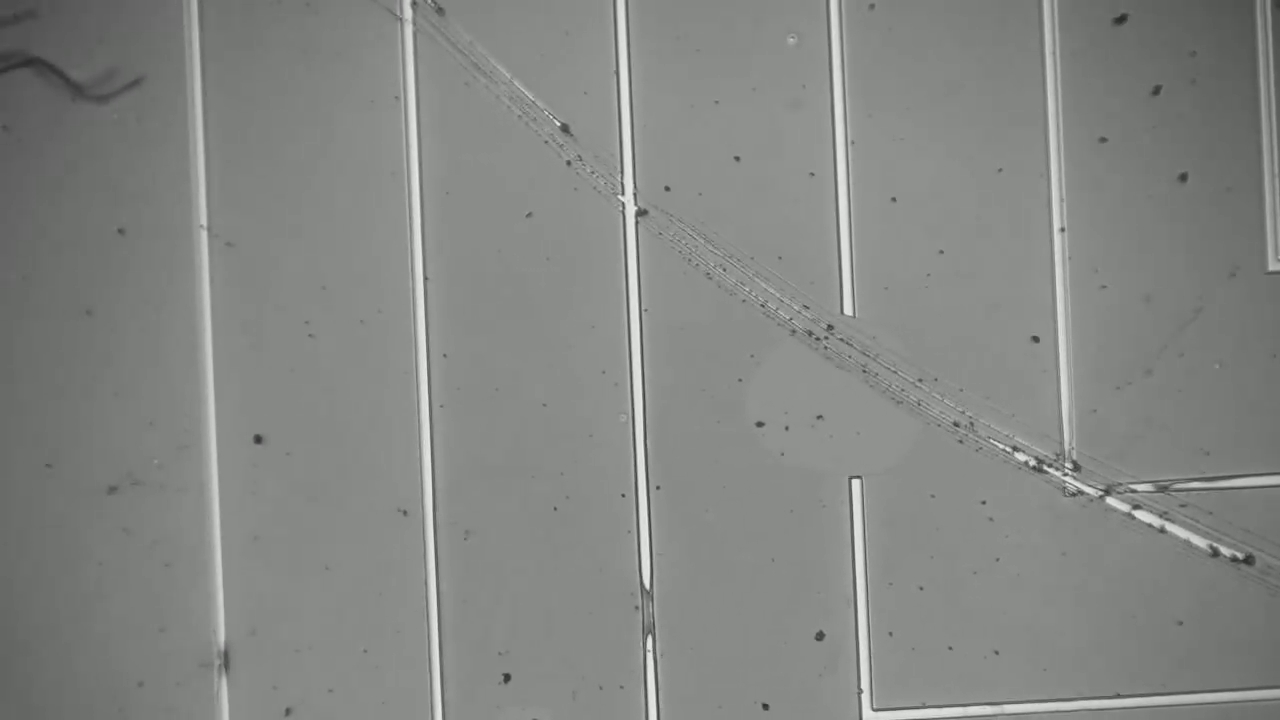gray_line: (631, 567, 669, 656), (213, 629, 238, 692)
open: (809, 263, 894, 519)
scratch: (410, 4, 1012, 449), (1015, 453, 1280, 588)
